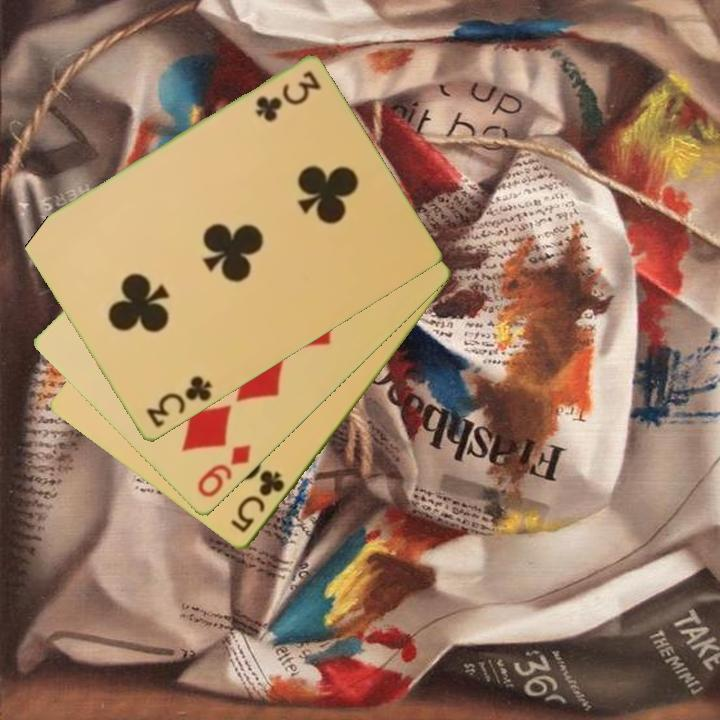3c: (142, 372, 215, 431), (251, 68, 324, 124)
5c: (227, 467, 288, 536)
9d: (193, 441, 255, 501)
